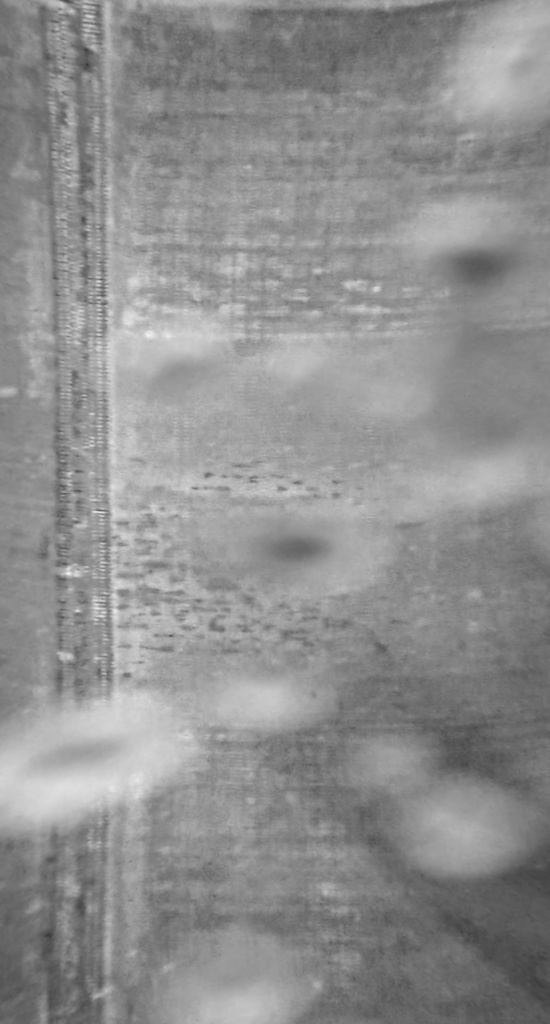splice: (34, 1, 137, 1024)
